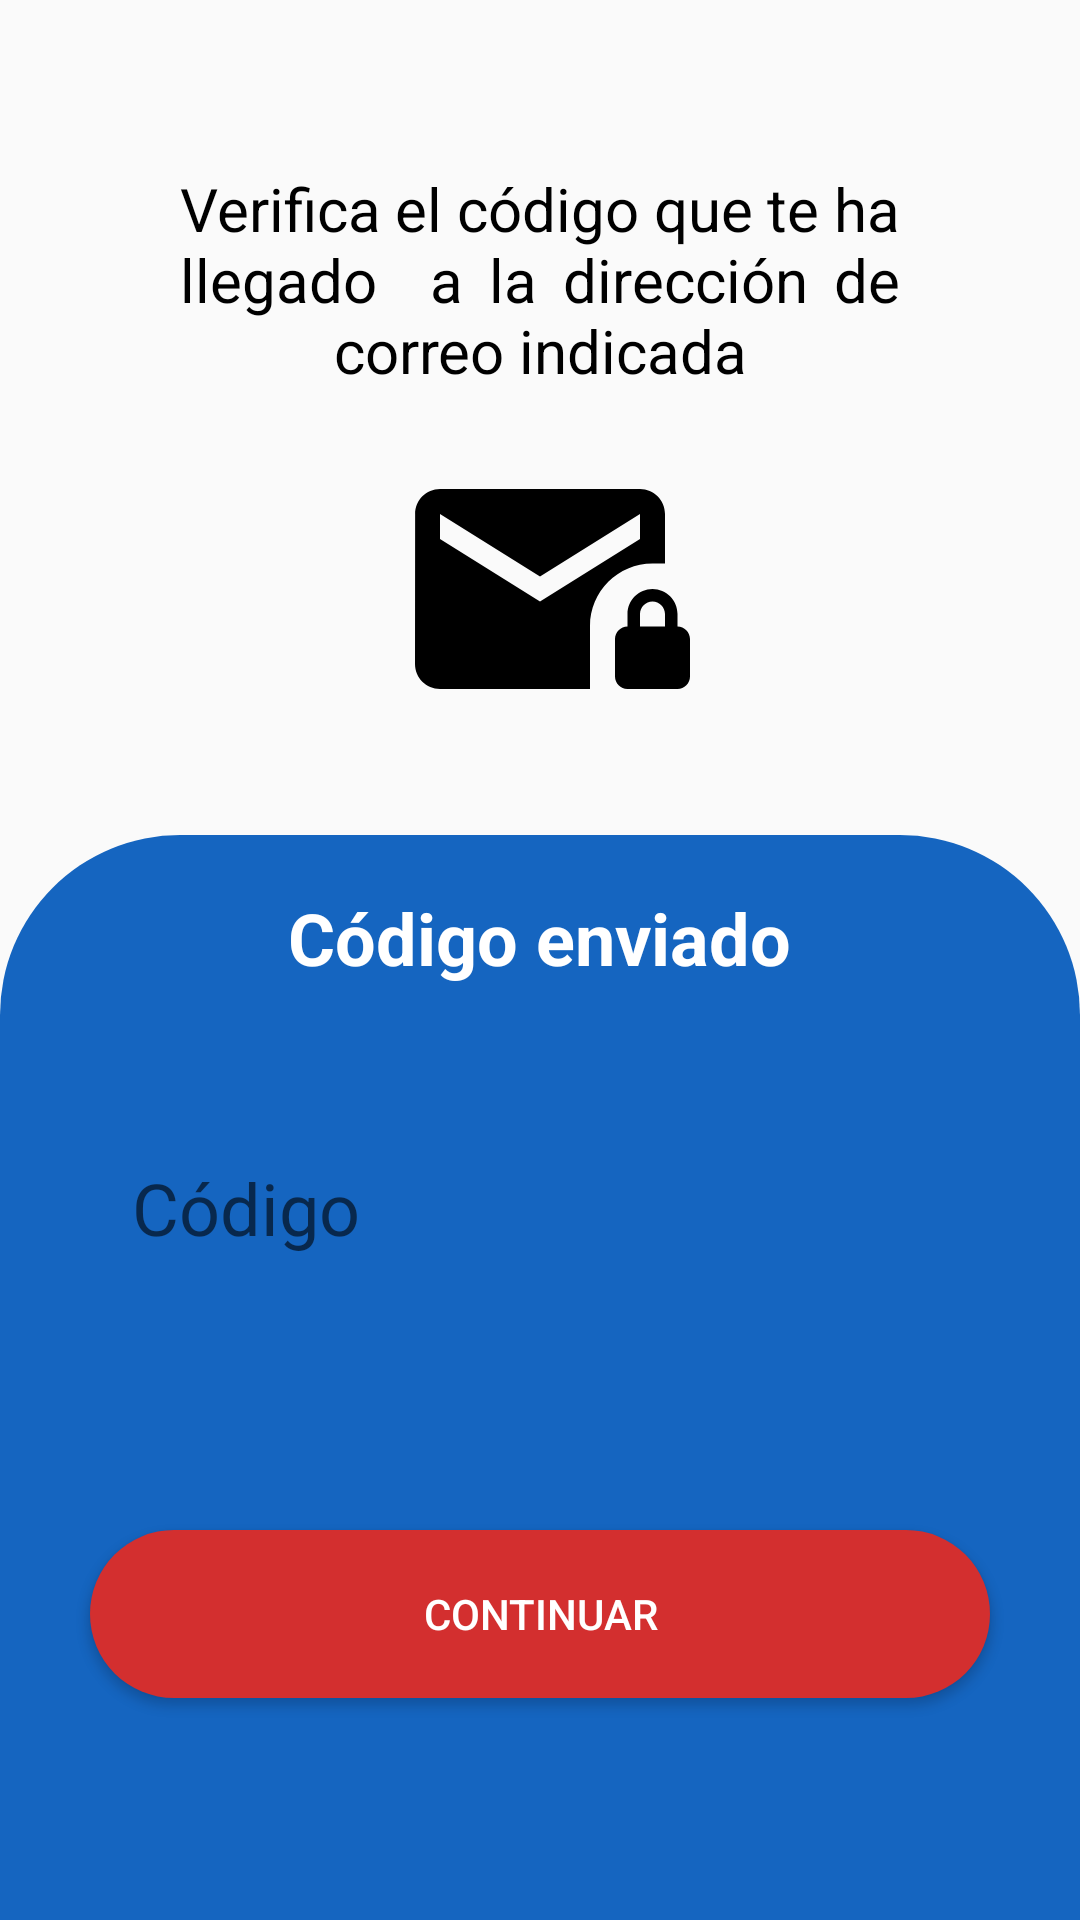

Named icons in this screenshot (1080*1920) and their bounding boxes, (x1, y1, x2, y2):
mail lock: (415, 489, 690, 689)
